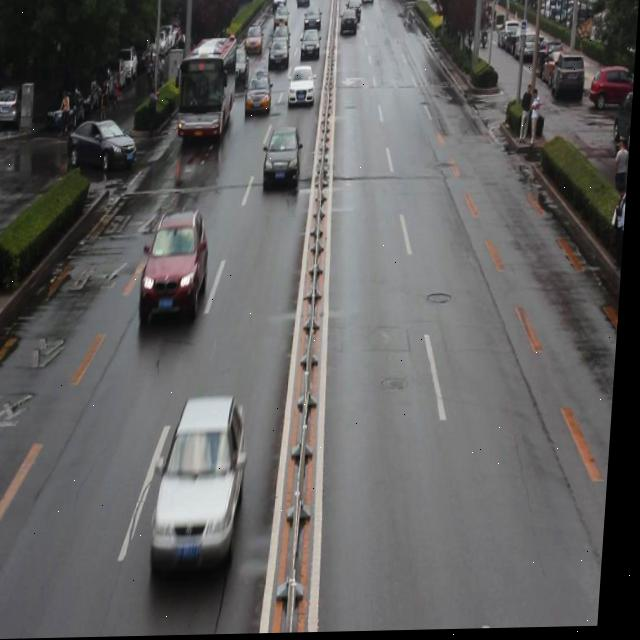car: (156, 394, 256, 570), (142, 208, 214, 321), (69, 115, 140, 175), (262, 127, 305, 187), (287, 65, 317, 106), (246, 70, 273, 115)
van: (174, 35, 238, 140)
